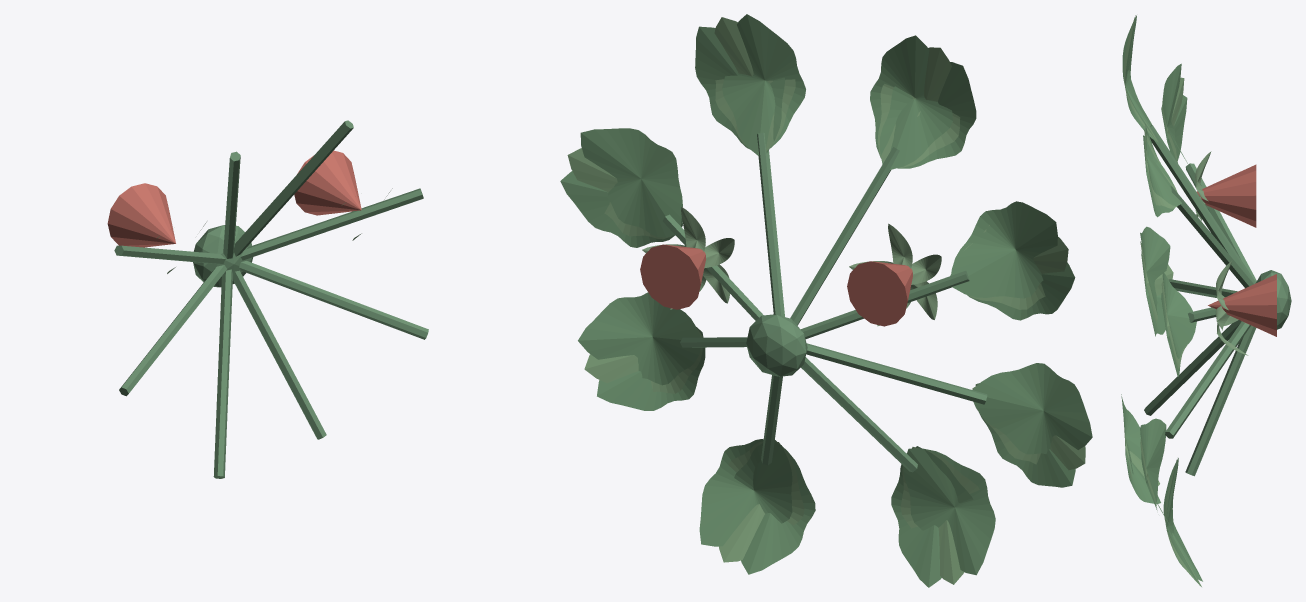
The model's file is strawberry_c.glb.
3 views of the same model, side by side, from view 1: azimuth 30°, elevation 25°; view 2: azimuth 150°, elevation 25°; view 3: azimuth 270°, elevation 25° (orthographic). The views are drawn at different scales.
Parts seen in each view (by area): view 1: Stem, FruitRed; view 2: Leaves, Stem, FruitRed, Calyx; view 3: Leaves, Stem, FruitRed, Calyx.
Part boxes in pixels (left/top/right/bottom): Stem: left=114, top=120, right=428, bottom=478; FruitRed: left=107, top=150, right=361, bottom=247; Leaves: left=560, top=14, right=1092, bottom=587; Stem: left=662, top=132, right=987, bottom=472; FruitRed: left=640, top=244, right=912, bottom=326; Calyx: left=642, top=207, right=941, bottom=326; Leaves: left=1121, top=15, right=1202, bottom=586; Stem: left=1144, top=125, right=1291, bottom=476; FruitRed: left=1197, top=164, right=1276, bottom=336; Calyx: left=1195, top=151, right=1248, bottom=355.
Bounding box in the file's own units: 0.4808 × 0.4786 × 0.1468.
